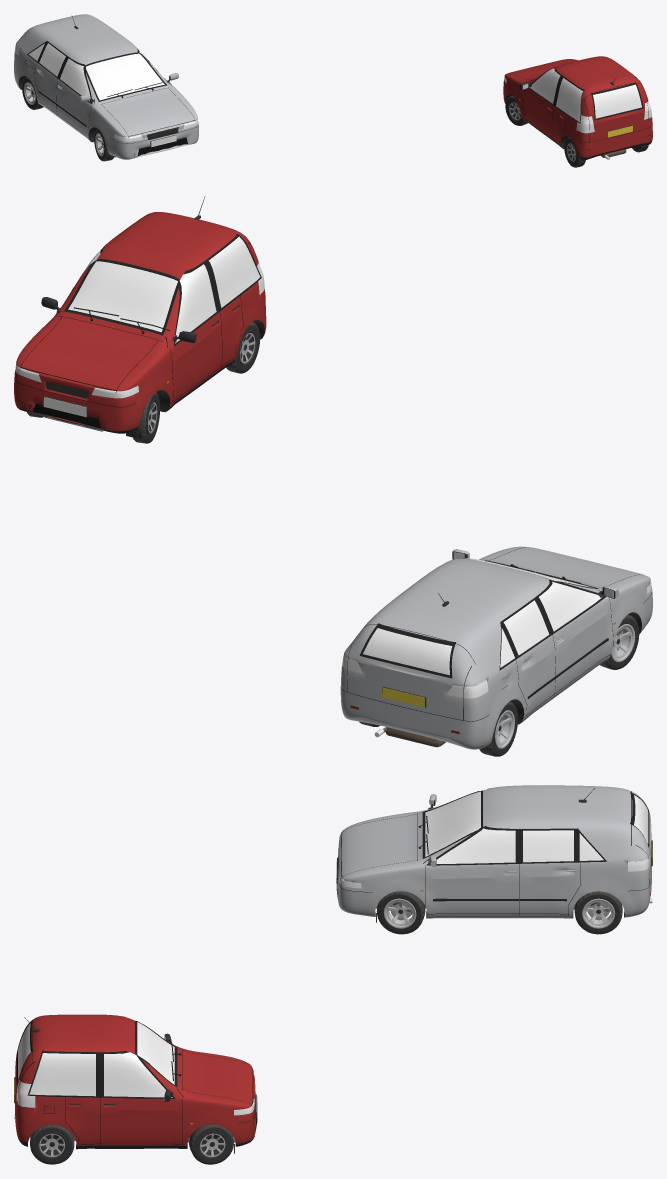
File: cell_m3_m1.glb
3 renders of one model, top to bottom at view 1: azimuth 30°, elevation 25°; view 2: azimuth 150°, elevation 25°; view 3: azimuth 270°, elevation 25°, orthographic. The views are drawn at different scales.
Parts seen in each view (by area): view 1: cell_m3_m1; view 2: cell_m3_m1; view 3: cell_m3_m1.
Boxes of the visible parts, bbox=[...] form: cell_m3_m1: bbox=[14, 14, 652, 167]; cell_m3_m1: bbox=[14, 196, 652, 756]; cell_m3_m1: bbox=[14, 785, 652, 1164].
Size of the model in its own units: 8.86 by 1.71 by 8.02.
